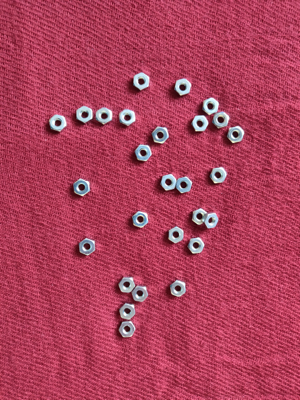nut: (173, 78, 193, 97), (118, 108, 137, 127), (151, 126, 170, 145), (95, 107, 113, 127), (78, 237, 96, 257), (49, 114, 67, 133), (76, 106, 94, 125), (209, 167, 228, 185), (202, 97, 220, 116), (167, 226, 186, 244), (119, 302, 137, 321), (133, 72, 150, 92), (134, 144, 152, 162), (191, 115, 209, 133), (212, 112, 230, 130), (227, 126, 245, 144), (73, 179, 91, 197), (132, 211, 150, 229), (191, 208, 209, 226), (118, 277, 136, 295), (118, 321, 137, 338), (160, 174, 177, 191), (202, 213, 219, 230), (132, 286, 149, 303), (176, 176, 192, 194), (170, 280, 186, 298), (188, 238, 205, 254)
